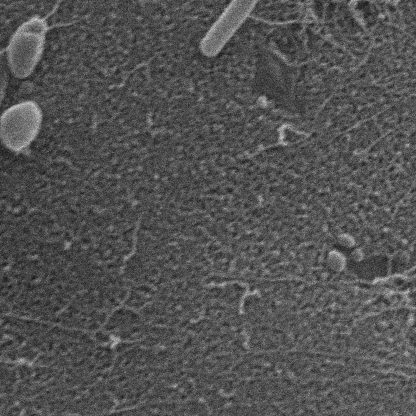cell2surface: (253, 19, 325, 28), (0, 50, 7, 104)
regular: (201, 0, 264, 60), (5, 19, 44, 78), (0, 106, 35, 152), (0, 56, 9, 193)
